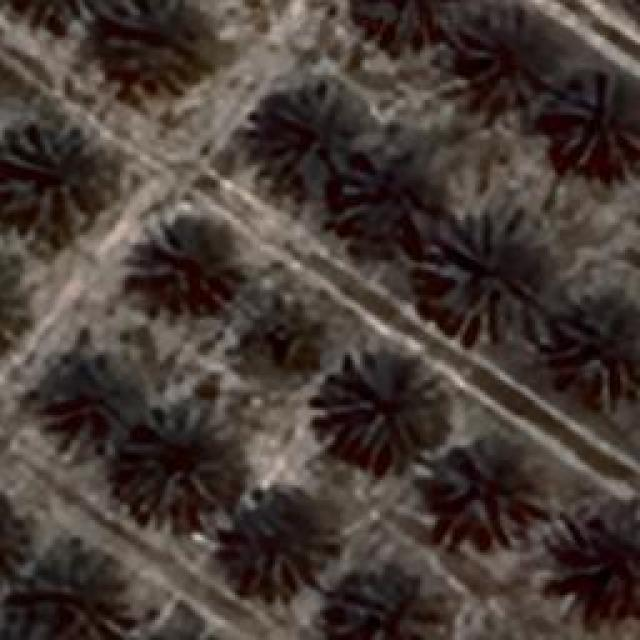PalmTree: (53, 14, 388, 198), (308, 350, 442, 465), (113, 400, 230, 518), (420, 210, 530, 332), (248, 82, 360, 188), (434, 438, 548, 538), (0, 125, 92, 235), (236, 488, 329, 594), (0, 557, 117, 640), (560, 504, 640, 618), (144, 208, 234, 306), (102, 2, 200, 90), (458, 11, 548, 101), (560, 292, 638, 392), (550, 75, 638, 163), (330, 570, 445, 635), (54, 352, 132, 440), (354, 0, 456, 50), (0, 246, 27, 356), (0, 490, 27, 585), (0, 247, 18, 356)
